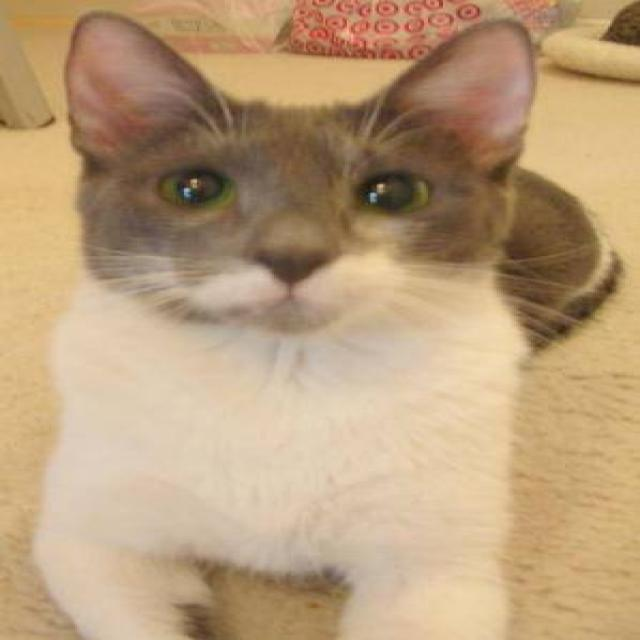cat: (30, 9, 625, 639)
